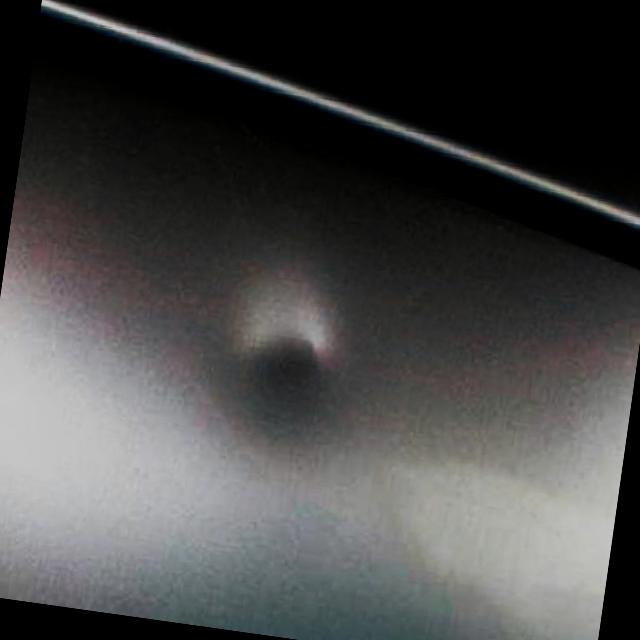dent: (232, 284, 350, 431)
